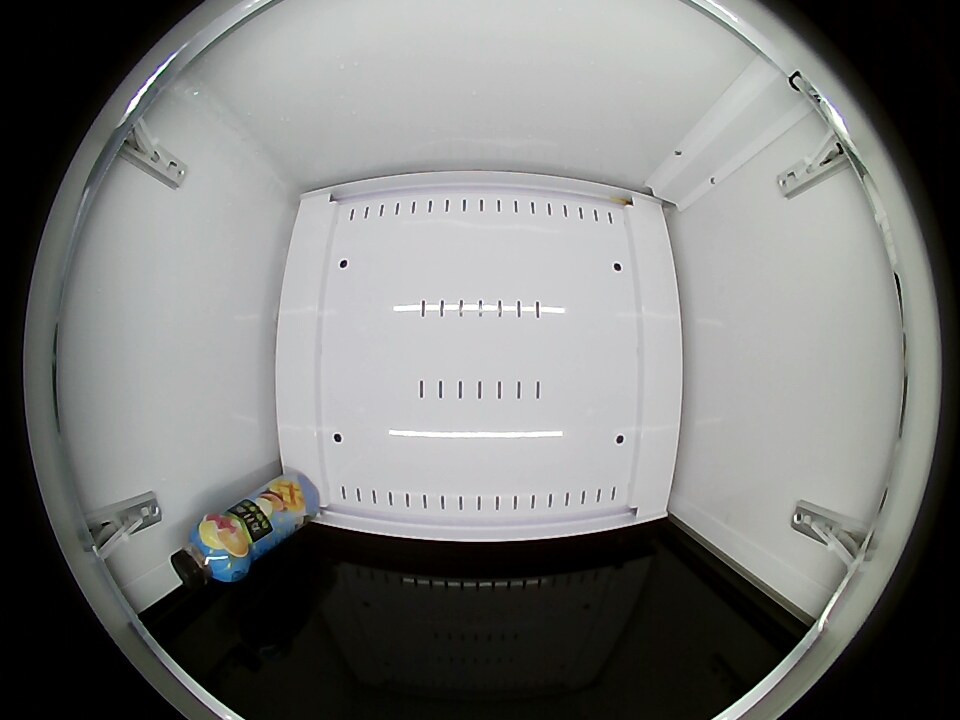guolicheng2: (169, 515, 248, 590)
